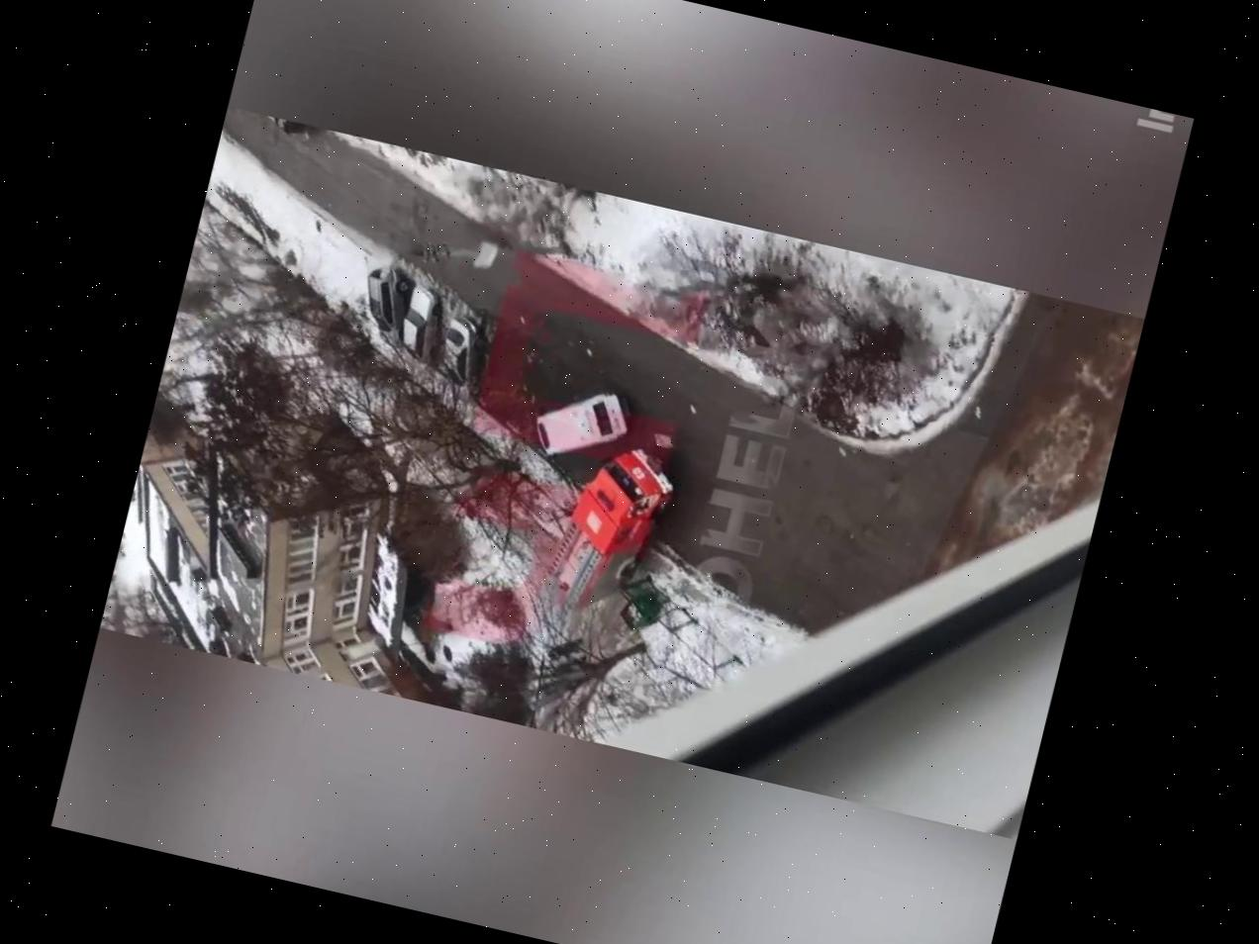car: (351, 258, 428, 350), (431, 312, 494, 404), (393, 279, 455, 368)
